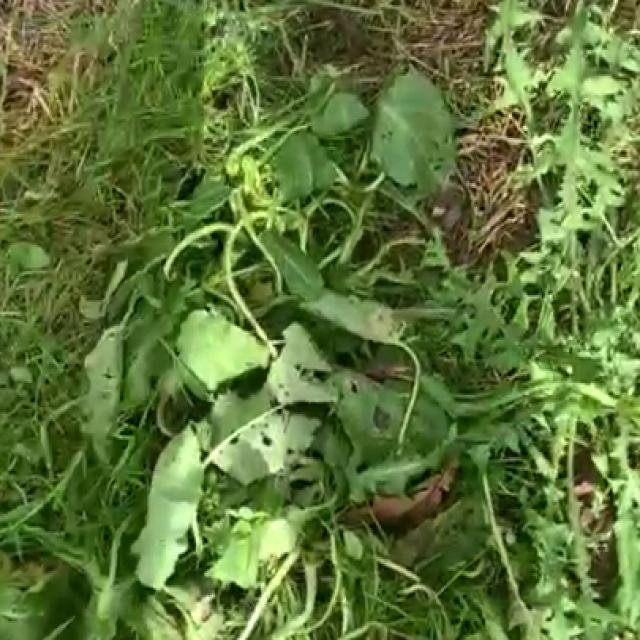organic waste: (159, 74, 516, 635)
